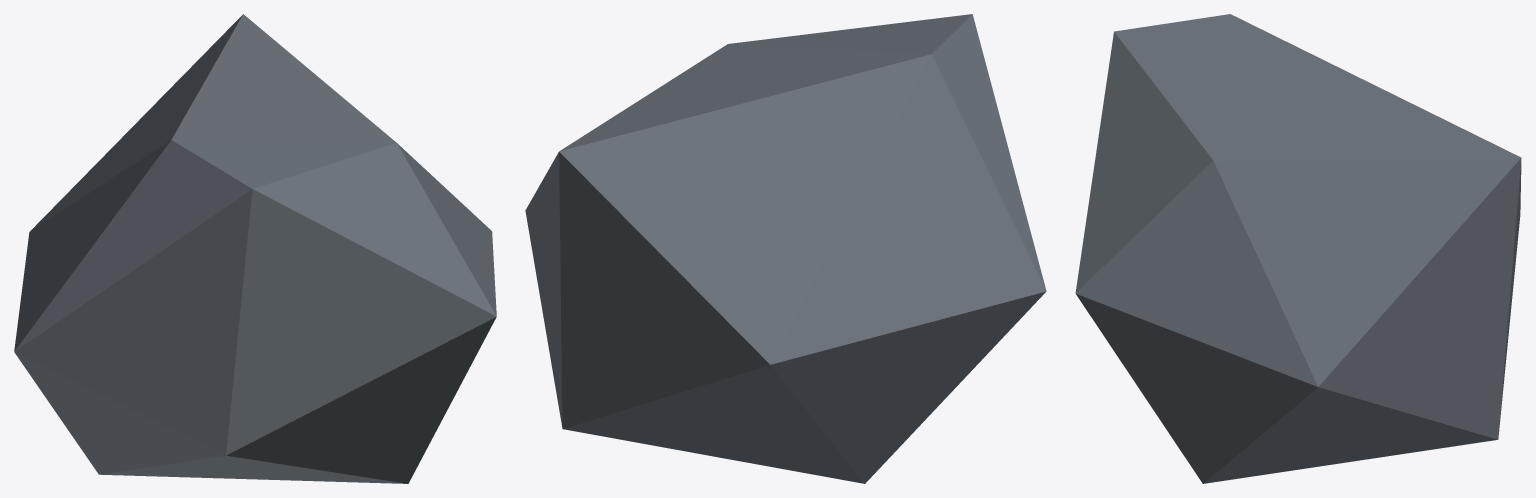
The model's file is stone-type-006.obj.
3 views of the same model, side by side, from view 1: azimuth 30°, elevation 25°; view 2: azimuth 150°, elevation 25°; view 3: azimuth 270°, elevation 25° (orthographic). The views are drawn at different scales.
Visible parts, largest first — view 1: stone-type-004-rndm.002; view 2: stone-type-004-rndm.002; view 3: stone-type-004-rndm.002.
Part boxes in pixels (left/top/right/bottom): stone-type-004-rndm.002: left=14, top=14, right=496, bottom=483; stone-type-004-rndm.002: left=525, top=14, right=1046, bottom=483; stone-type-004-rndm.002: left=1075, top=14, right=1521, bottom=483.
Size of the model in its own units: 0.3869 by 0.2842 by 0.3129.
